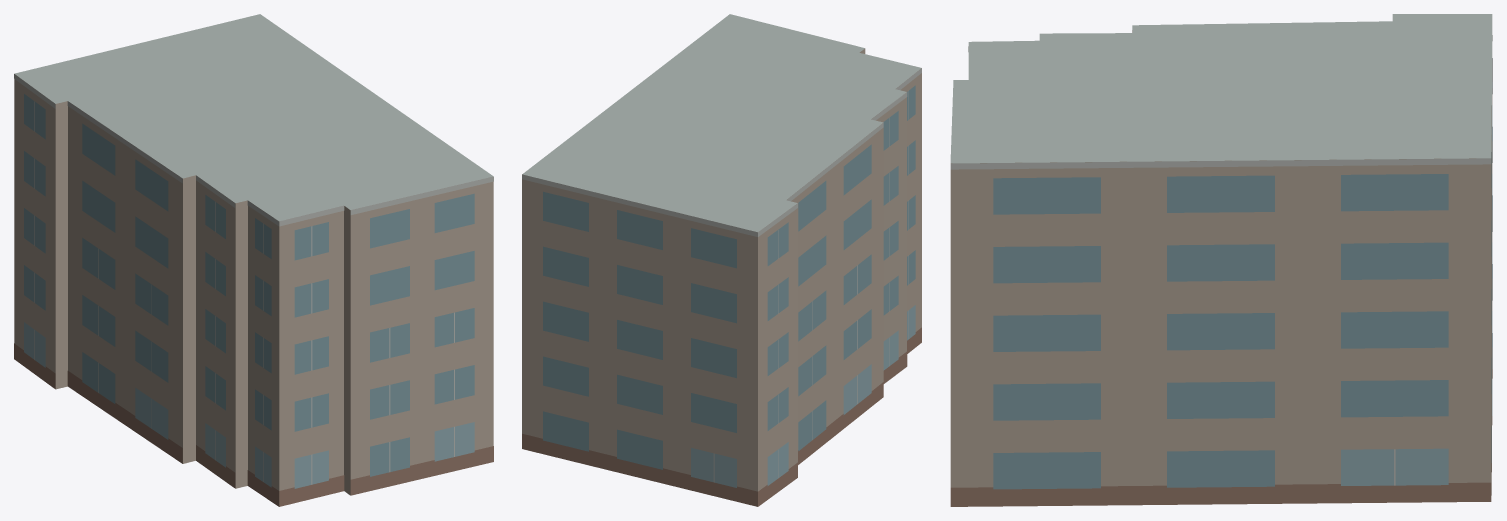
The model's file is survey-upis-32959299.glb.
3 views of the same model, side by side, from view 1: azimuth 30°, elevation 25°; view 2: azimuth 150°, elevation 25°; view 3: azimuth 270°, elevation 25° (orthographic). The views are drawn at different scales.
Visible parts, largest first — view 1: survey-upis-32959299.tmp; view 2: survey-upis-32959299.tmp; view 3: survey-upis-32959299.tmp.
Boxes of the visible parts, left/top/right/bottom form: survey-upis-32959299.tmp: left=14, top=14, right=493, bottom=506; survey-upis-32959299.tmp: left=522, top=14, right=921, bottom=506; survey-upis-32959299.tmp: left=950, top=14, right=1492, bottom=506.
Bounding box in the file's own units: 12.7 × 13.6 × 19.46.
